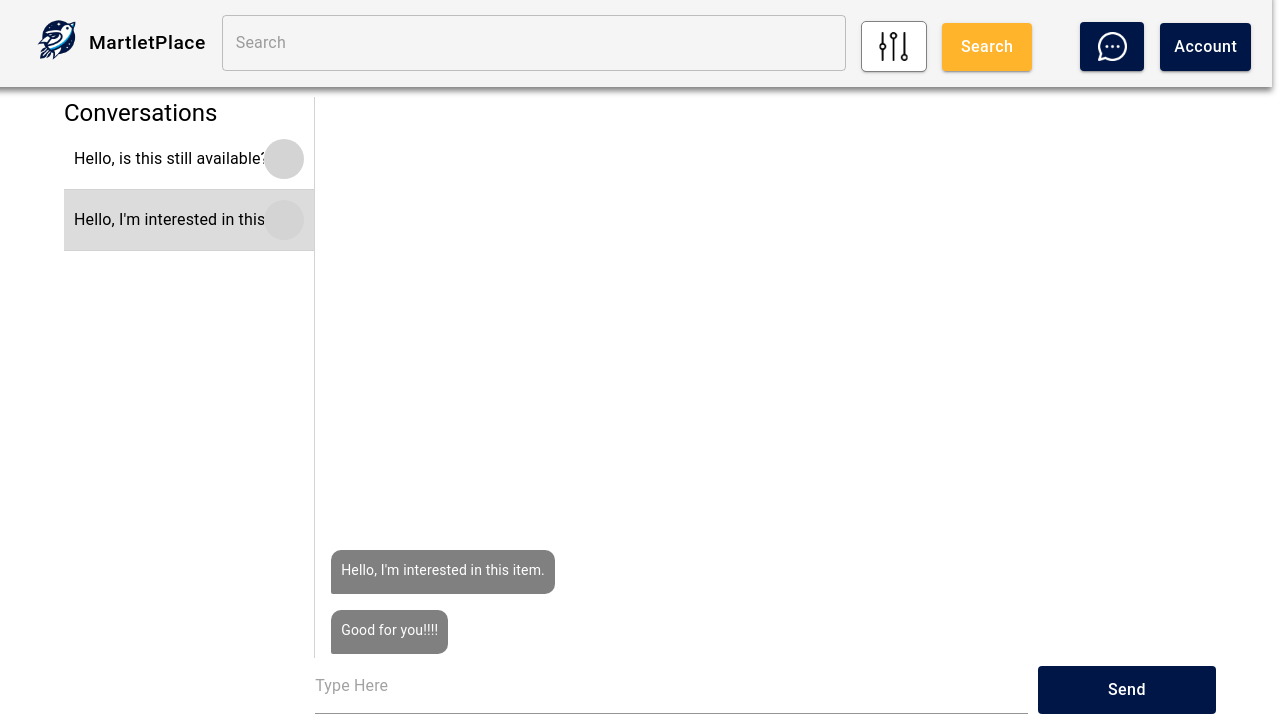
<Messages/> › desktop › should send a message
Step 1. Type "Sup" into the field with placeholder "Type Here" → (672, 686), box x1=315 y1=670 x2=1028 y2=702
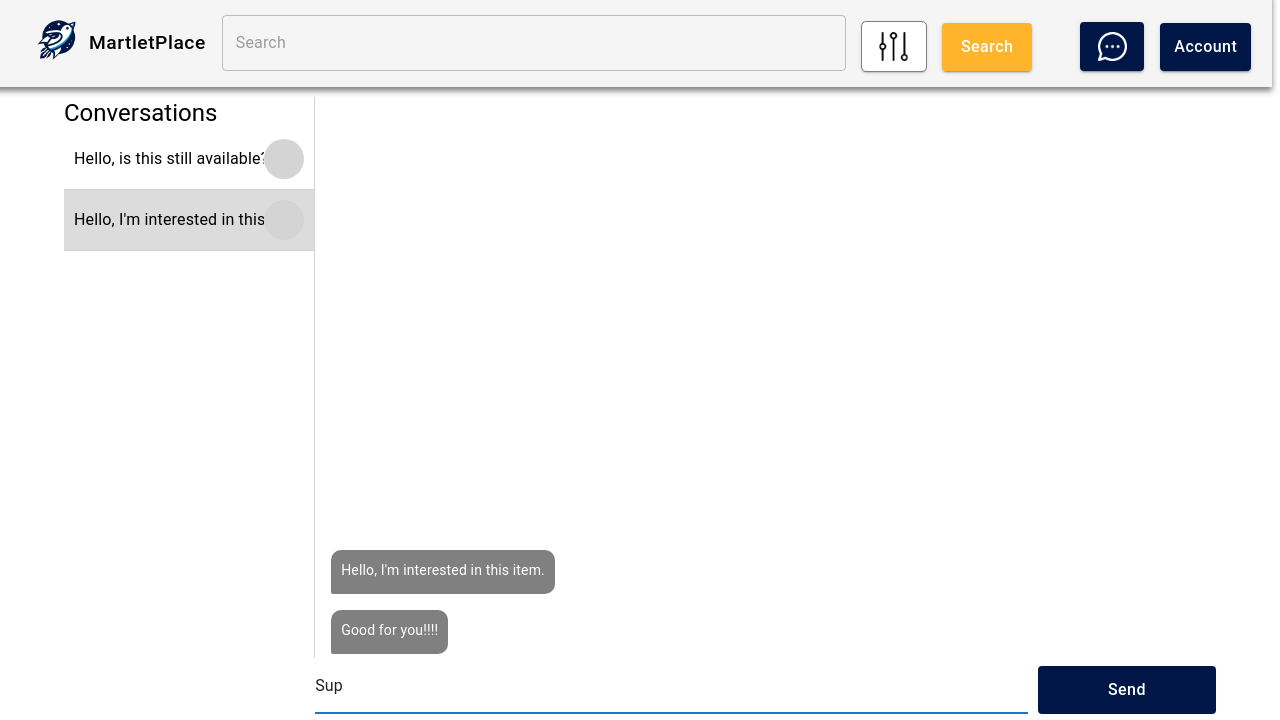
Step 2. Click the button "Send" → (1127, 690), box x1=1038 y1=666 x2=1216 y2=714
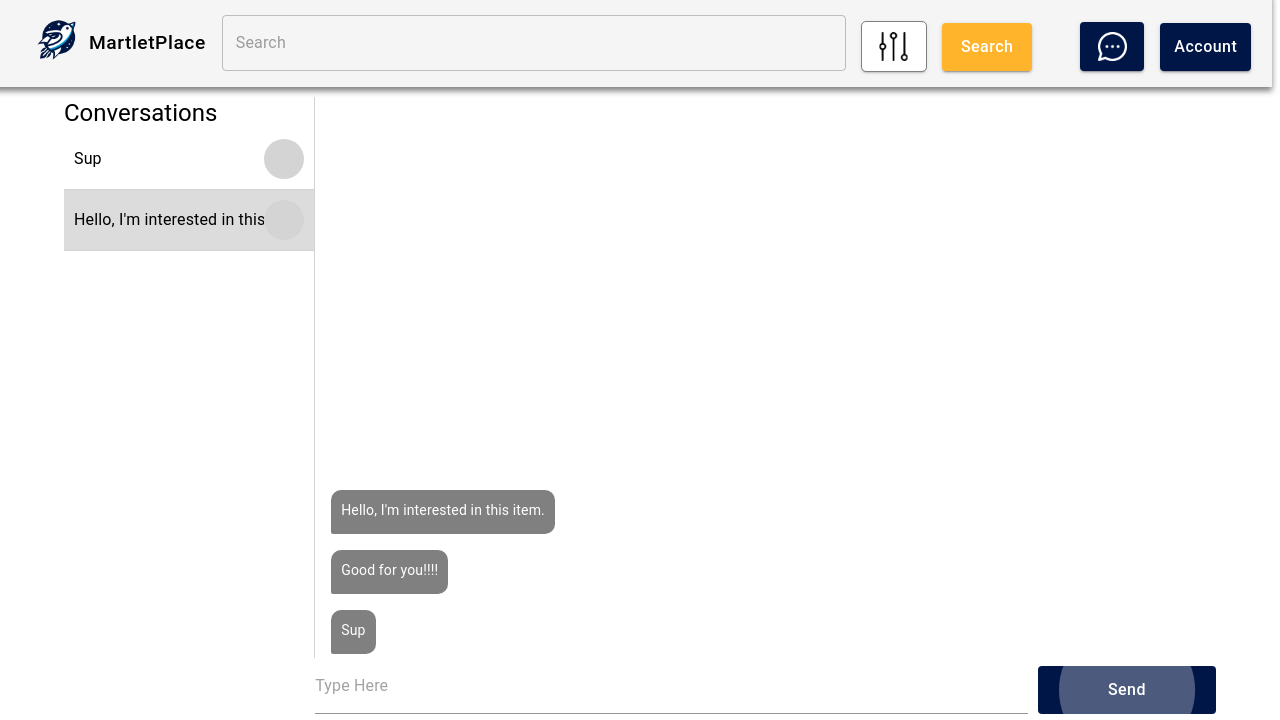
Check: the button "Sup" is shown, box x1=64 y1=129 x2=314 y2=190
